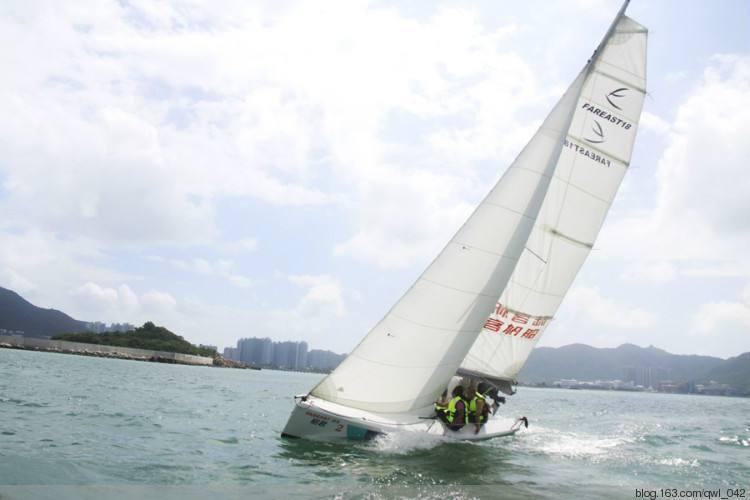fanchuan: (277, 1, 674, 447)
